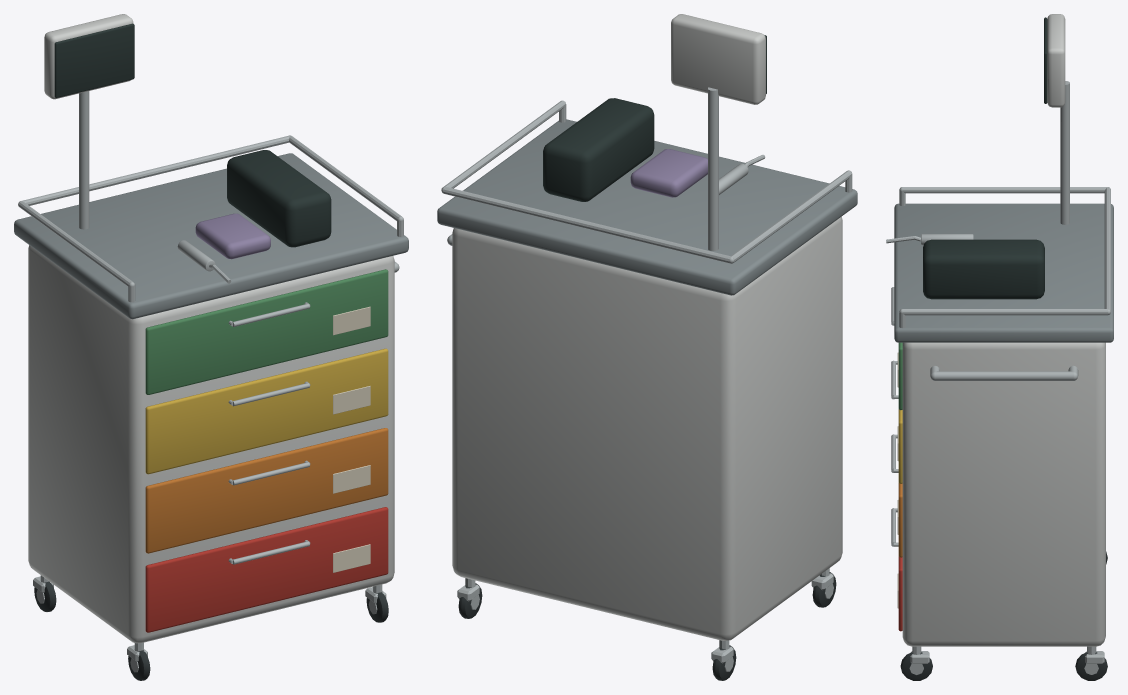
File: sc-difficult-airway-trolley.glb
3 renders of one model, left to right at view 1: azimuth 30°, elevation 25°; view 2: azimuth 150°, elevation 25°; view 3: azimuth 270°, elevation 25°, orthographic. The views are drawn at different scales.
Parts seen in each view (by area): view 1: sc-difficult-airway-trolley; view 2: sc-difficult-airway-trolley; view 3: sc-difficult-airway-trolley.
Part boxes in pixels (bbox=[...]): sc-difficult-airway-trolley: bbox=[14, 14, 408, 680]; sc-difficult-airway-trolley: bbox=[437, 14, 857, 680]; sc-difficult-airway-trolley: bbox=[886, 14, 1113, 680].
Size of the model in its own units: 0.767 by 1.5 by 0.5607.
